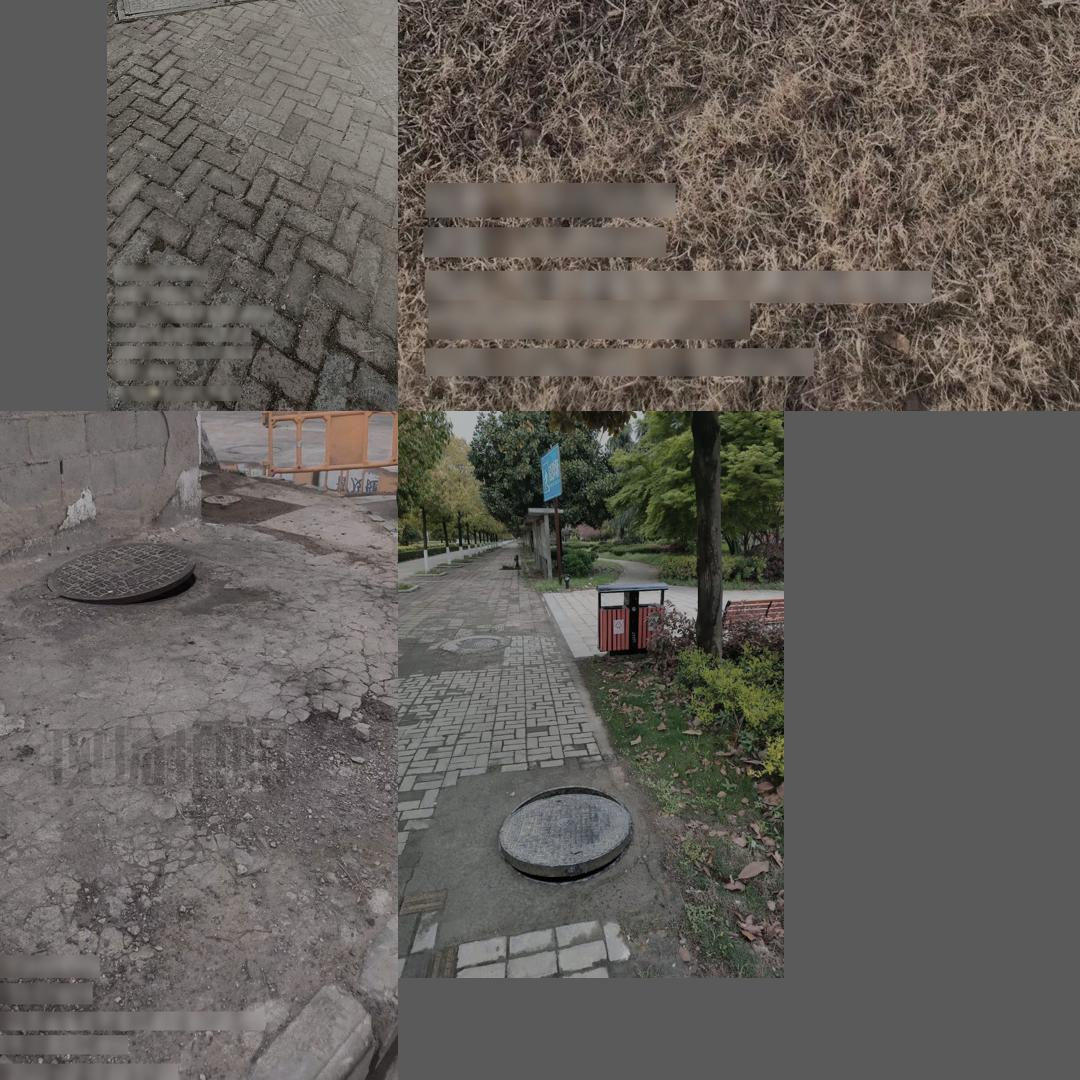good: (107, 0, 324, 21)
uncovered: (493, 771, 642, 892), (42, 540, 196, 608)
